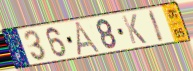3: (24, 29, 47, 62)
6: (45, 26, 68, 59)
8: (96, 18, 119, 51)
A: (74, 20, 103, 57)
I: (147, 8, 166, 44)
K: (120, 13, 149, 46)
